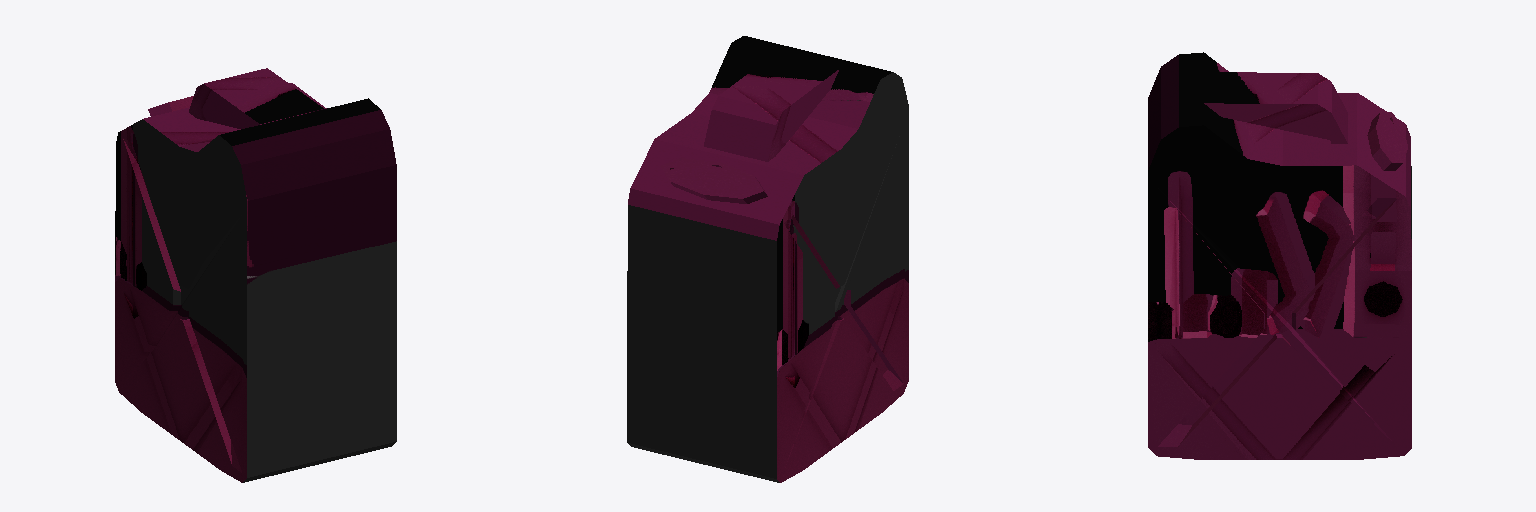
3 views of the same model, side by side, from view 1: azimuth 30°, elevation 25°; view 2: azimuth 150°, elevation 25°; view 3: azimuth 270°, elevation 25° (orthographic).
Parts seen in each view (by area): view 1: Plane.001; view 2: Plane.001; view 3: Plane.001.
Boxes of the visible parts, x1=… form: Plane.001: x1=115, y1=68, x2=396, y2=482; Plane.001: x1=627, y1=36, x2=908, y2=482; Plane.001: x1=1148, y1=52, x2=1411, y2=459.
Size of the model in its own units: 2.26 by 4.84 by 3.46.
1 materials, 1 textured.